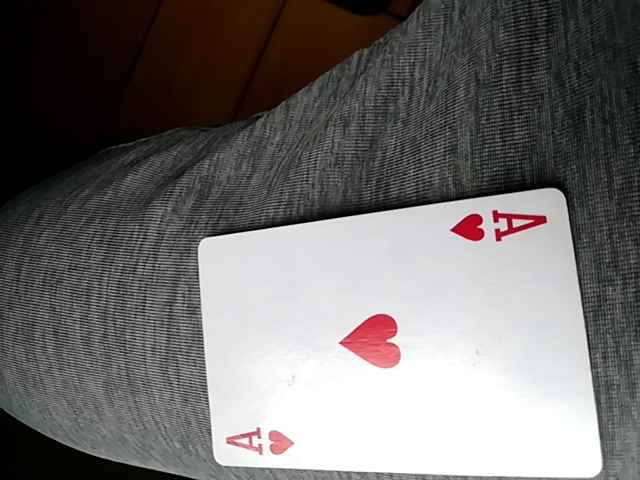hx a: (198, 186, 604, 475)
